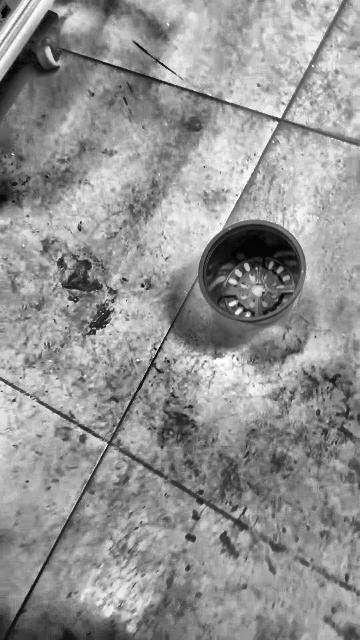pot: (199, 220, 306, 325)
